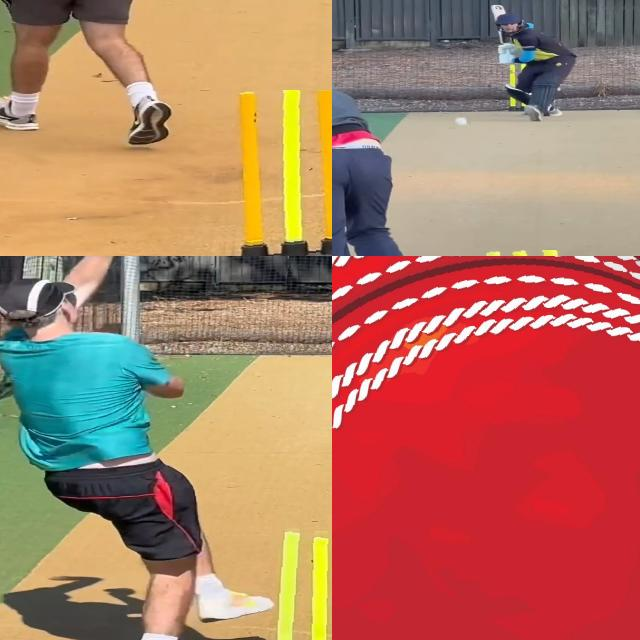Cricket ball: (332, 256, 640, 640), (454, 114, 472, 126)
Stumps: (217, 90, 332, 256), (257, 523, 332, 640)
